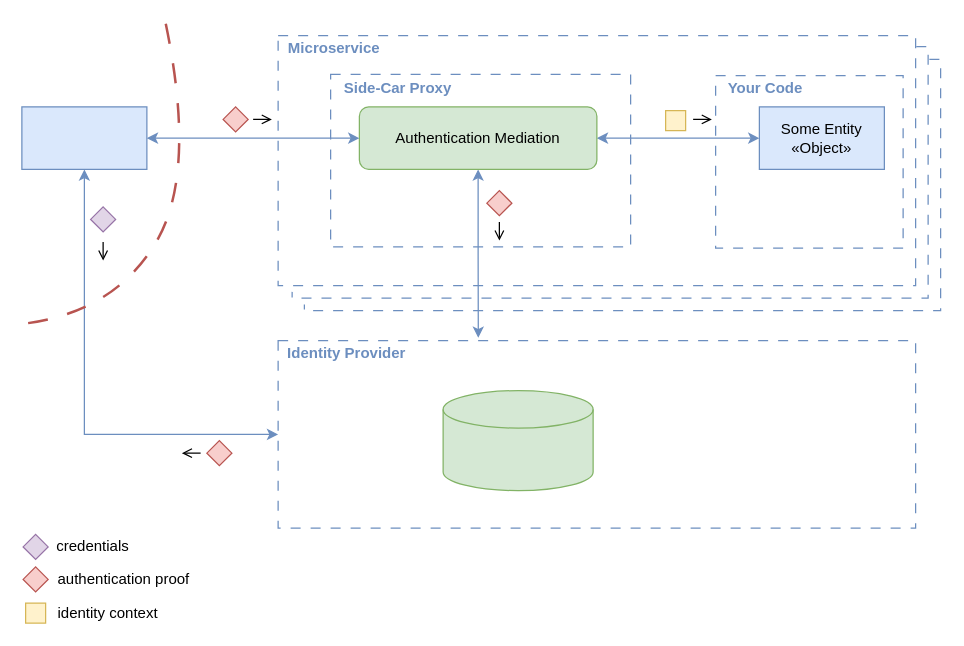
The diagram is 964 pixels wide and 646 high, and some of its shapes have lost their labels. The box of each missing label's shape, as (x1, y1, x2, y2) in pixels:
Identity Store: (442, 389, 593, 491)
Some Client «Subject»: (21, 106, 147, 169)
